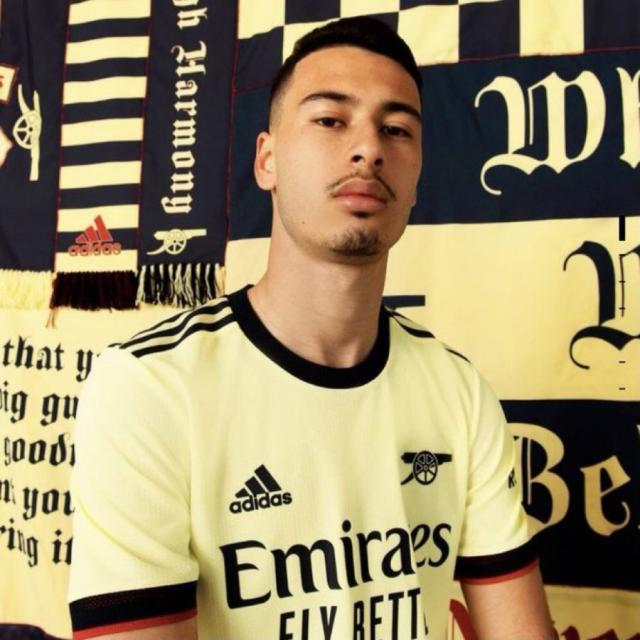Adidas: (227, 459, 294, 518)
Emirates: (218, 518, 453, 610)
